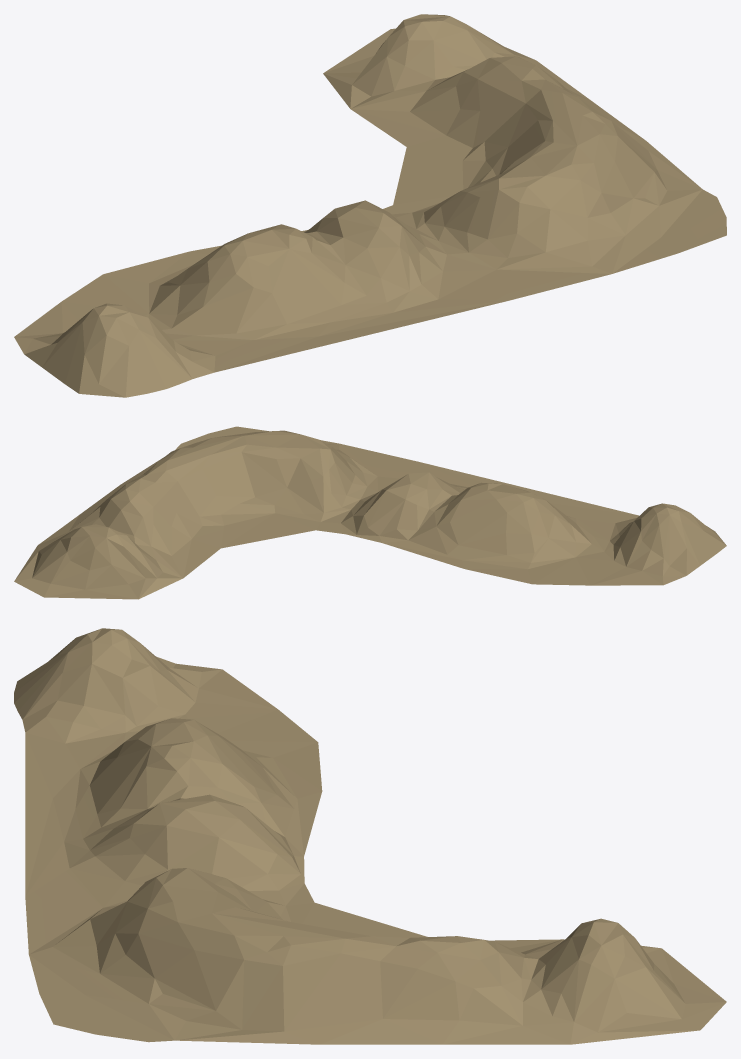
Rendered from SM_Env_Beach_05.glb.
3 renders of one model, top to bottom at view 1: azimuth 30°, elevation 25°; view 2: azimuth 150°, elevation 25°; view 3: azimuth 270°, elevation 25°, orthographic. The views are drawn at different scales.
Parts seen in each view (by area): view 1: SM_Env_Beach_05; view 2: SM_Env_Beach_05; view 3: SM_Env_Beach_05.
Boxes of the visible parts, x1,y1,x2,y2 form: SM_Env_Beach_05: (14, 14, 726, 397); SM_Env_Beach_05: (14, 426, 726, 599); SM_Env_Beach_05: (14, 628, 726, 1044).
Bounding box in the file's own units: 0.3378 × 0.028 × 0.2671.
